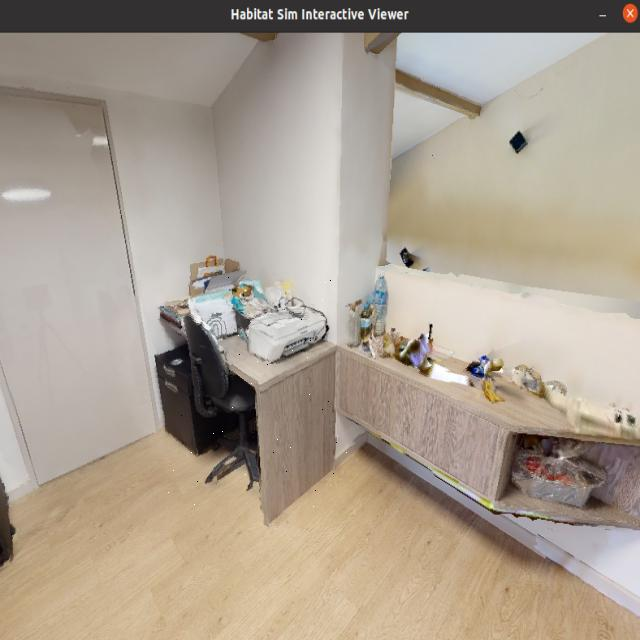chair: (169, 304, 267, 489)
table: (166, 276, 352, 513)
